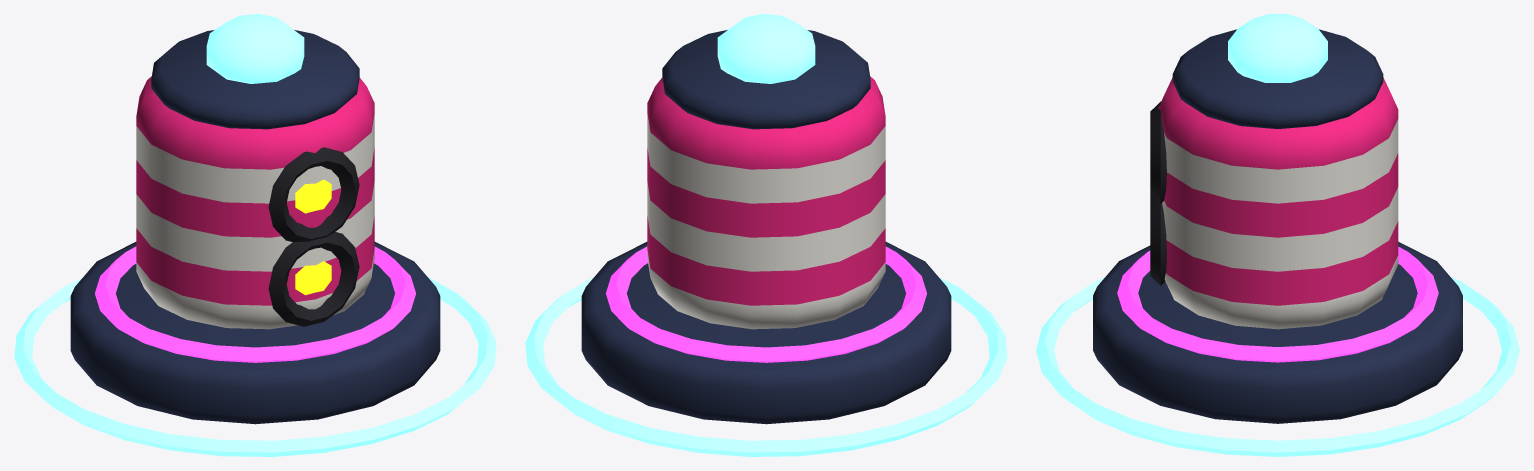
File: H16_BeatPillar.fbx
The picture shows the model from 3 angles, left to right: view 1: azimuth 30°, elevation 25°; view 2: azimuth 150°, elevation 25°; view 3: azimuth 270°, elevation 25°; orthographic projection.
Parts seen in each view (by area): view 1: Pulse, Static, BeatRing; view 2: Pulse, Static, BeatRing; view 3: Pulse, Static, BeatRing.
Part boxes in pixels (<box>): Pulse: <box>136,14,374,329</box>; Static: <box>70,242,440,424</box>; BeatRing: <box>14,276,496,456</box>; Pulse: <box>647,14,885,329</box>; Static: <box>581,242,951,424</box>; BeatRing: <box>525,276,1007,456</box>; Pulse: <box>1150,14,1398,329</box>; Static: <box>1093,242,1462,423</box>; BeatRing: <box>1036,277,1519,456</box>.
Bounding box in the file's own units: 3.22 × 2.48 × 3.22.
